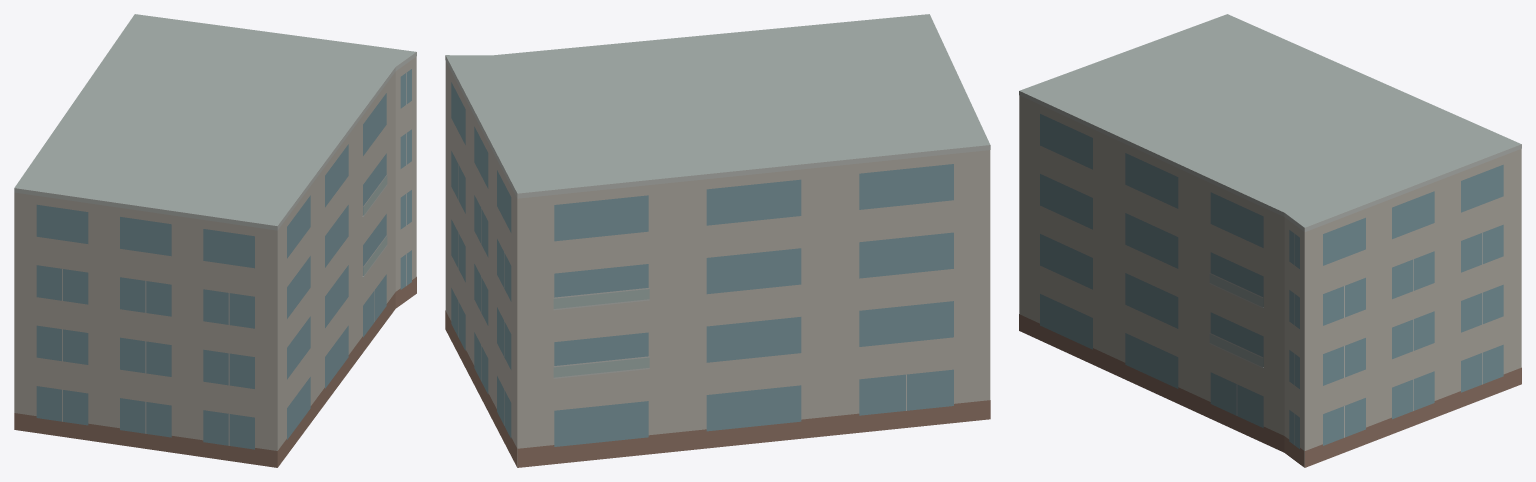
File: survey-upis-32780659.glb
3 renders of one model, left to right at view 1: azimuth 30°, elevation 25°; view 2: azimuth 150°, elevation 25°; view 3: azimuth 270°, elevation 25°, orthographic. The views are drawn at different scales.
Visible parts, largest first — view 1: survey-upis-32780659.tmp; view 2: survey-upis-32780659.tmp; view 3: survey-upis-32780659.tmp.
Part boxes in pixels (<box>): survey-upis-32780659.tmp: <box>14,14,416,467</box>; survey-upis-32780659.tmp: <box>445,14,990,467</box>; survey-upis-32780659.tmp: <box>1019,14,1521,467</box>.
Bounding box in the file's own units: 25.52 × 13.35 × 25.34.
